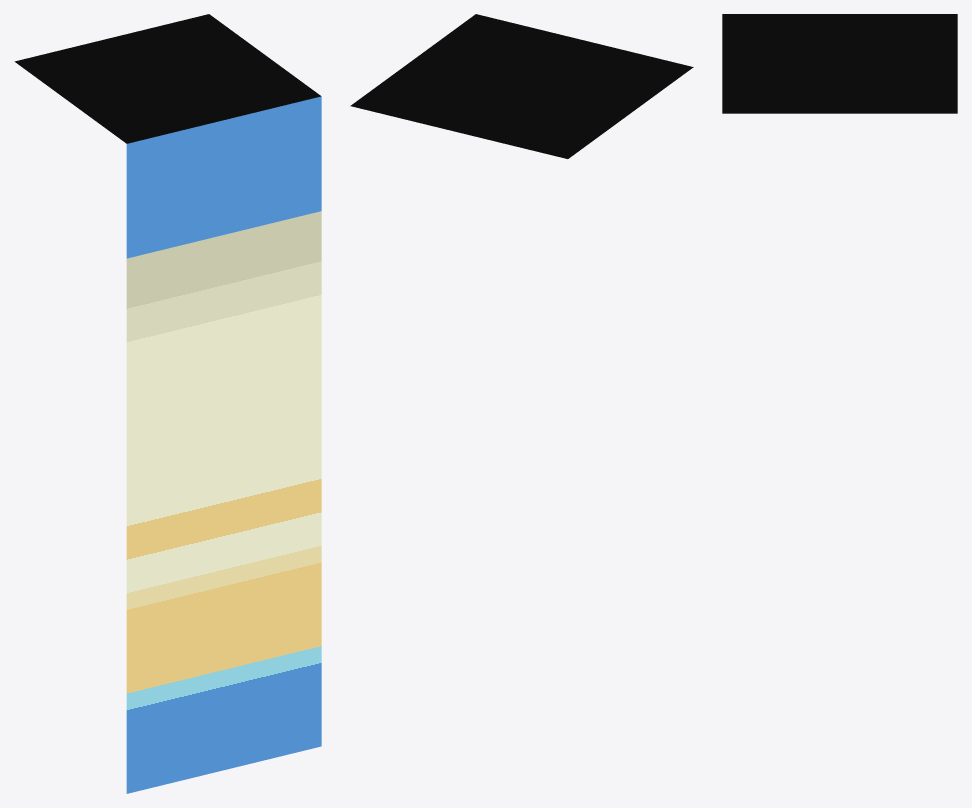
The picture shows the model from 3 angles, left to right: view 1: azimuth 30°, elevation 25°; view 2: azimuth 150°, elevation 25°; view 3: azimuth 270°, elevation 25°; orthographic projection. The views are drawn at different scales.
Size of the model in its own units: 1 by 3.19 by 1.
2 materials, 2 textured.
